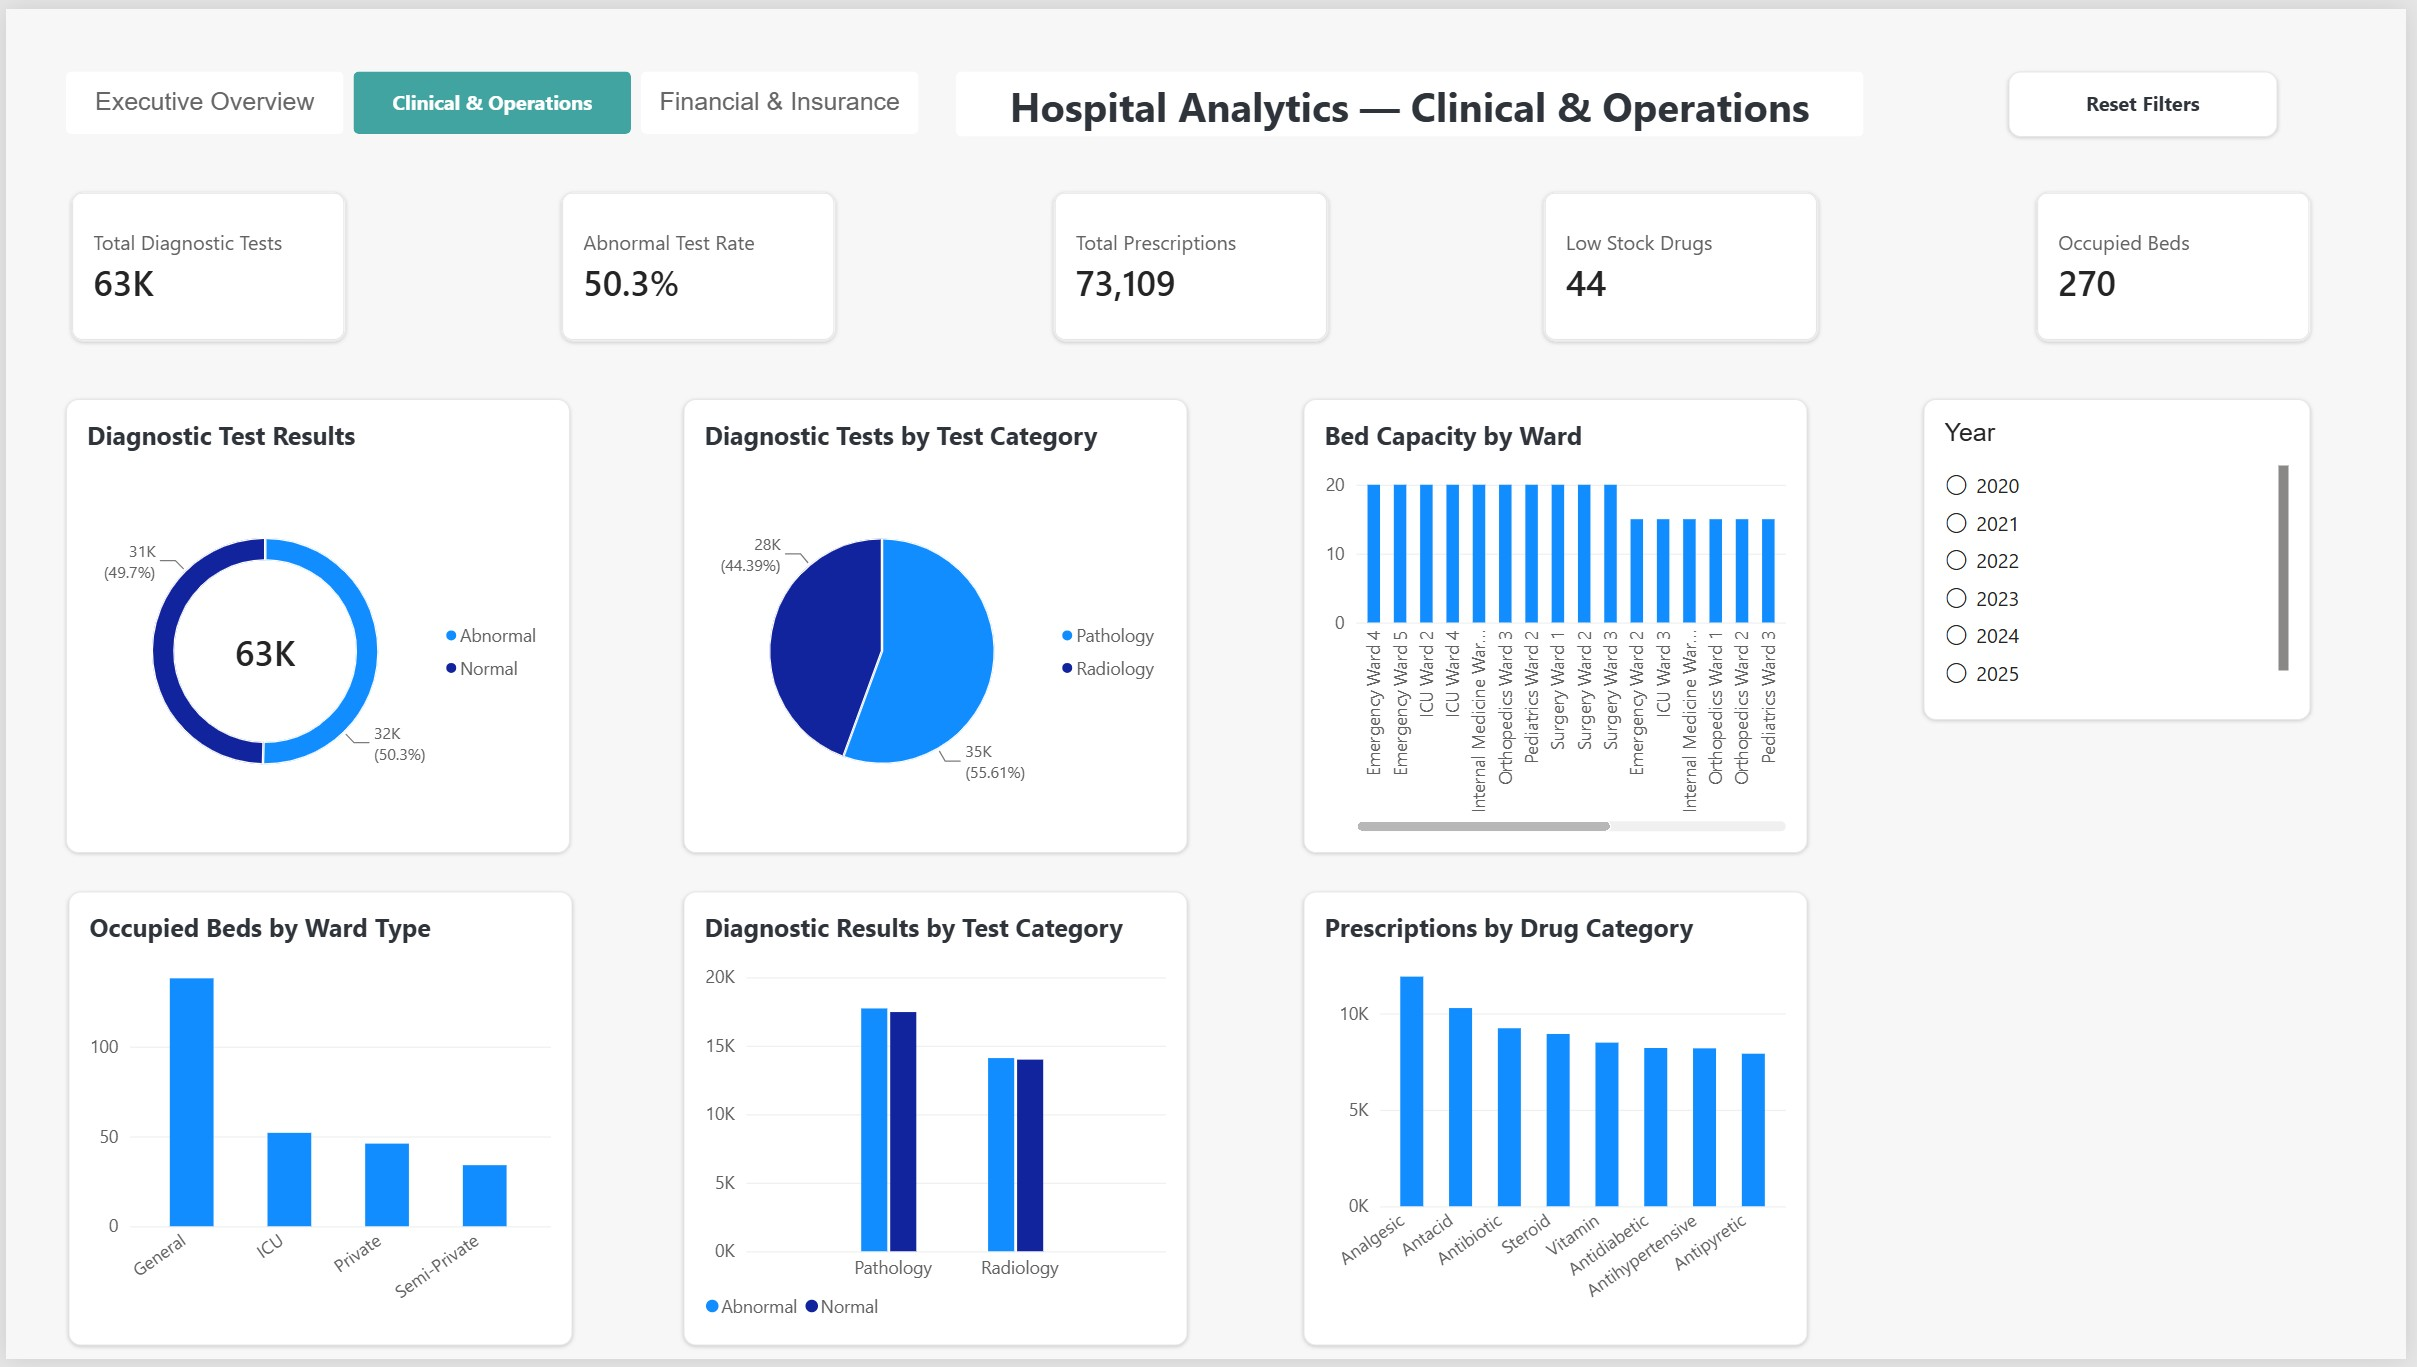

The page's visual inventory and layout, read from the dashboard file:
{"tool":"powerbi","page":{"name":"Clinical & Operations","canvas":[1920,1080],"ordinal":1},"visuals":[{"type":"cardVisual","fields":{"Data":["_Measures.Total_Diagnostics_Test"]},"box":[51.4,145.1,220,120],"z":0},{"type":"cardVisual","fields":{"Data":["_Measures.Abnormal_Test_Rate"]},"box":[444.5,146,220,120],"z":1000},{"type":"cardVisual","fields":{"Data":["_Measures.Total_Prescriptions"]},"box":[837.7,146,220,120],"z":2000},{"type":"cardVisual","fields":{"Data":["_Measures.Low_Stock_Drugs"]},"box":[1230.8,146,220,120],"z":3000},{"type":"cardVisual","fields":{"Data":["_Measures.Occupied_Bed"]},"box":[1624,146,220,120],"z":4000},{"type":"donutChart","title":"Diagnostic Test Results","fields":{"Category":["patient_diagnostic.result_status"],"Y":["_Measures.Total Diagnostics Test"]},"box":[47.4,311.3,403,363],"z":5000},{"type":"pieChart","title":"Diagnostic Tests by Test Category","fields":{"Series":["diagnostic_test.test_category"],"Y":["_Measures.Total Diagnostics Test"]},"box":[542.9,311.3,403,363],"z":6000},{"type":"clusteredColumnChart","title":"Bed Capacity by Ward","fields":{"Category":["ward.ward_name"],"Y":["_Measures.Ward Bed Capacity"]},"box":[1038.5,311.3,403,363],"z":7000},{"type":"clusteredColumnChart","title":"Prescriptions by Drug Category","fields":{"Category":["drug.drug_category"],"Y":["_Measures.Total Prescriptions"]},"box":[1038,706,403,363],"z":8000},{"type":"clusteredColumnChart","title":"Occupied Beds by Ward Type ","fields":{"Category":["ward.ward_type"],"Y":["_Measures.Occupied Beds by Ward Type"]},"box":[50.7,706.9,403,363],"z":9000},{"type":"clusteredColumnChart","title":"Diagnostic Results by Test Category","fields":{"Y":["_Measures.Total Diagnostics Test"],"Category":["diagnostic_test.test_category"],"Series":["patient_diagnostic.result_status"]},"box":[542,706,403,363],"z":10000},{"type":"actionButton","box":[1601.5,50.7,215.3,52.5],"z":11000},{"type":"listSlicer","fields":{"Values":["Date_Table.Year"]},"box":[1534,311.3,309.5,257],"z":12000},{"type":"pageNavigator","box":[48.9,50.7,684.1,50.7],"z":13000},{"type":"actionButton","box":[760,50,726,52],"z":14000}]}

Visuals, with their boxes in screenshot pixels (x1, y1, x2, y2), scaled from the page's 1920x1080 canvas onto the 2417x1367 screenshot:
cardVisual - _Measures.Total_Diagnostics_Test: crop(65, 184, 342, 336)
cardVisual - _Measures.Abnormal_Test_Rate: crop(560, 185, 837, 337)
cardVisual - _Measures.Total_Prescriptions: crop(1055, 185, 1331, 337)
cardVisual - _Measures.Low_Stock_Drugs: crop(1549, 185, 1826, 337)
cardVisual - _Measures.Occupied_Bed: crop(2044, 185, 2321, 337)
"Diagnostic Test Results" donutChart: crop(60, 394, 567, 853)
"Diagnostic Tests by Test Category" pieChart: crop(683, 394, 1191, 853)
"Bed Capacity by Ward" clusteredColumnChart: crop(1307, 394, 1815, 853)
"Prescriptions by Drug Category" clusteredColumnChart: crop(1307, 894, 1814, 1353)
"Occupied Beds by Ward Type " clusteredColumnChart: crop(64, 895, 571, 1354)
"Diagnostic Results by Test Category" clusteredColumnChart: crop(682, 894, 1190, 1353)
actionButton: crop(2016, 64, 2287, 131)
listSlicer - Date_Table.Year: crop(1931, 394, 2321, 719)
pageNavigator: crop(62, 64, 923, 128)
actionButton: crop(957, 63, 1871, 129)
